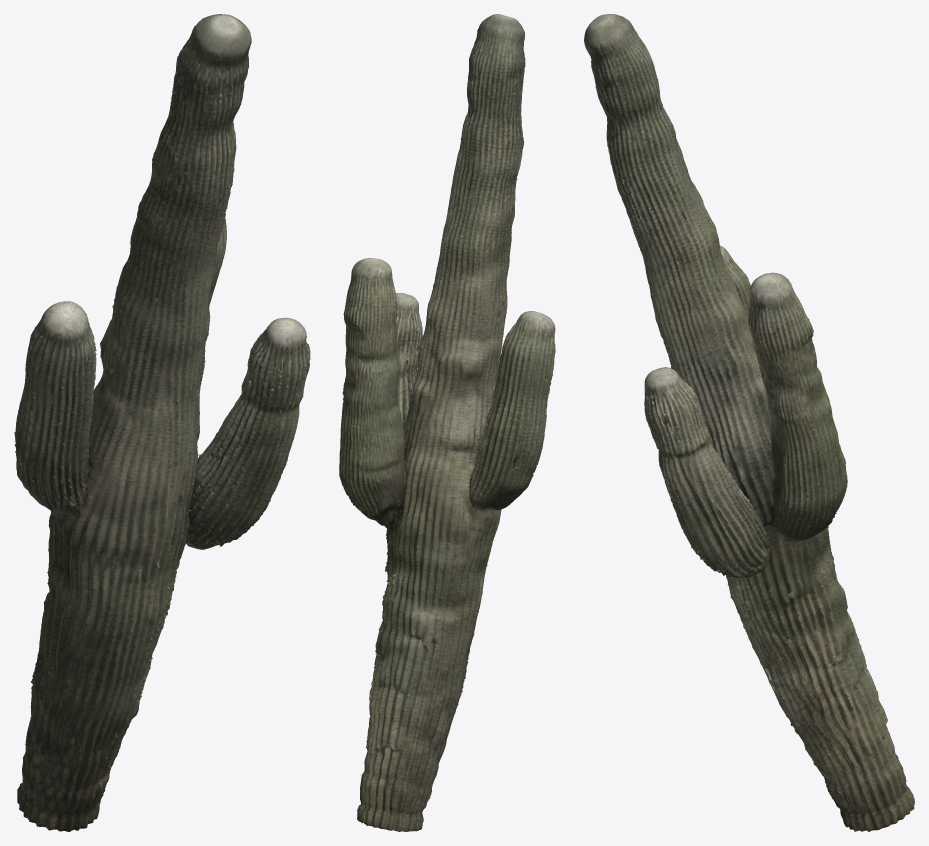
The model's file is TC003_Pixal 3d.glb.
3 renders of one model, left to right at view 1: azimuth 30°, elevation 25°; view 2: azimuth 150°, elevation 25°; view 3: azimuth 270°, elevation 25°, orthographic. The views are drawn at different scales.
Parts seen in each view (by area): view 1: world; view 2: world; view 3: world.
Part boxes in pixels (left/top/right/bottom): world: left=14, top=14, right=310, bottom=831; world: left=339, top=14, right=555, bottom=831; world: left=584, top=14, right=914, bottom=831.
Bounding box in the file's own units: 0.265 × 0.9293 × 0.3434.
Materials: 1 (1 with a texture image).
